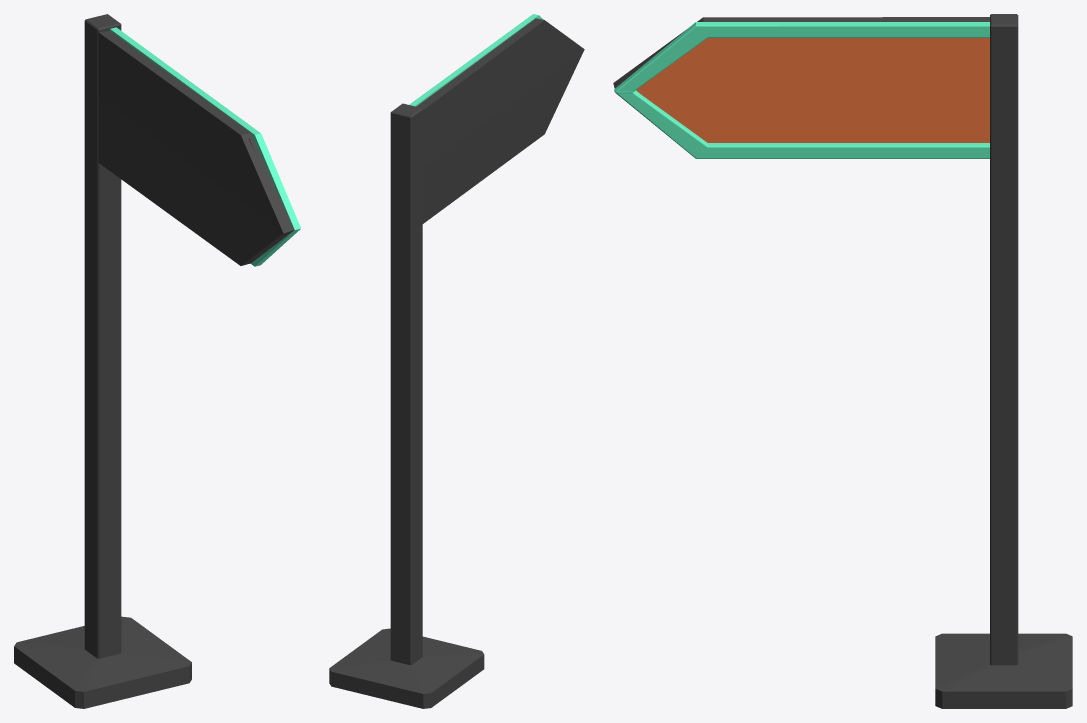
File: wEBGLpOLE.glb
The picture shows the model from 3 angles, left to right: view 1: azimuth 30°, elevation 25°; view 2: azimuth 150°, elevation 25°; view 3: azimuth 270°, elevation 25°; orthographic projection. The views are drawn at different scales.
Parts seen in each view (by area): view 1: Cube; view 2: Cube; view 3: Cube.
Part boxes in pixels (x1,y1,x2,y2): Cube: (14, 14, 300, 708); Cube: (329, 14, 584, 708); Cube: (613, 14, 1072, 708).
Size of the model in its own units: 0.2941 by 1.56 by 0.9841.
